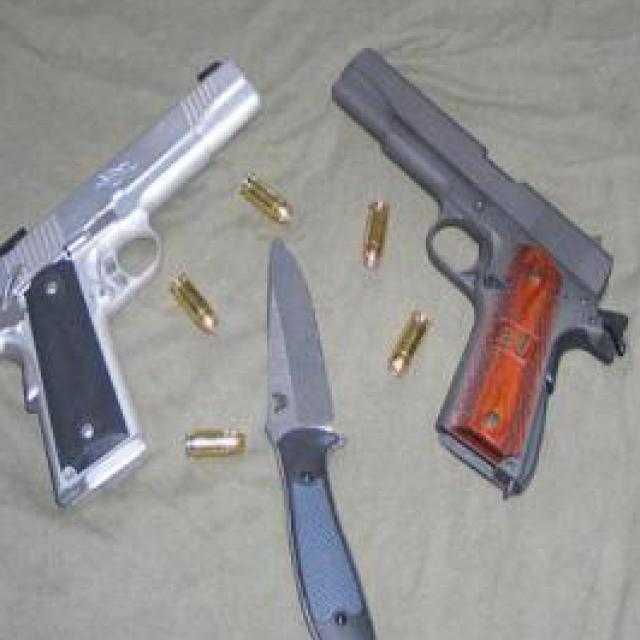pistol: (330, 46, 628, 498), (0, 55, 267, 512)
